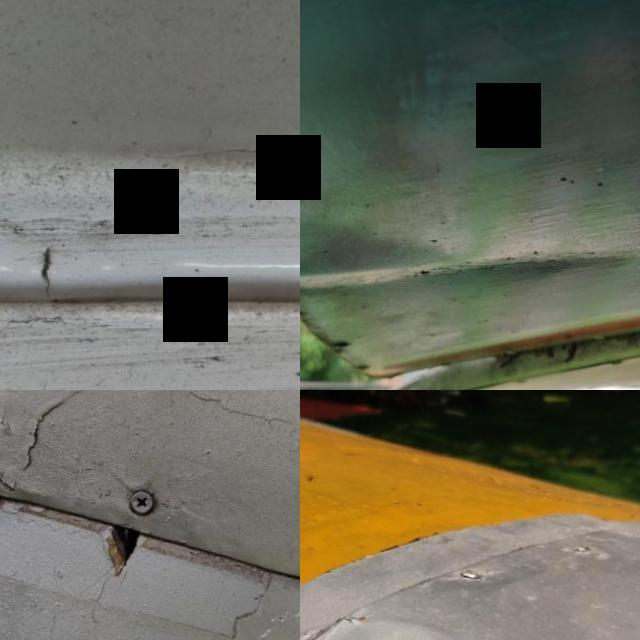Crack: (0, 178, 164, 356), (146, 67, 300, 181), (82, 504, 164, 594)
Dent: (300, 189, 640, 355)
